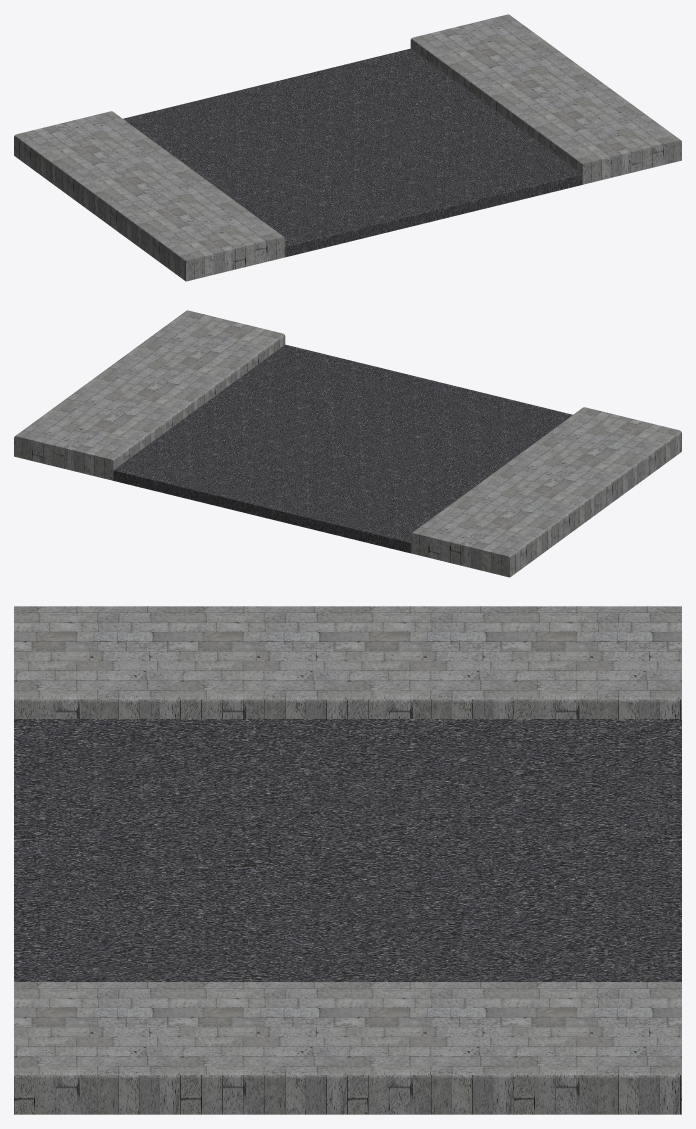
Rendered from Base street.fbx.
The picture shows the model from 3 angles, top to bottom: view 1: azimuth 30°, elevation 25°; view 2: azimuth 150°, elevation 25°; view 3: azimuth 270°, elevation 25°; orthographic projection. The views are drawn at different scales.
Visible parts, largest first — view 1: pCube1, pasted__pasted__pCube1, pasted__pCube1; view 2: pCube1, pasted__pasted__pCube1, pasted__pCube1; view 3: pCube1, pasted__pCube1, pasted__pasted__pCube1.
Boxes of the visible parts, <box> form: pCube1: <box>123,48,582,257</box>; pasted__pasted__pCube1: <box>14,111,285,281</box>; pasted__pCube1: <box>410,14,681,184</box>; pCube1: <box>113,344,572,553</box>; pasted__pasted__pCube1: <box>410,407,681,577</box>; pasted__pCube1: <box>14,310,285,480</box>; pCube1: <box>14,719,681,981</box>; pasted__pCube1: <box>14,982,681,1114</box>; pasted__pasted__pCube1: <box>14,606,681,718</box>.
Size of the model in its own units: 9.99 by 0.401 by 6.
Materials: 3 (3 with a texture image).
